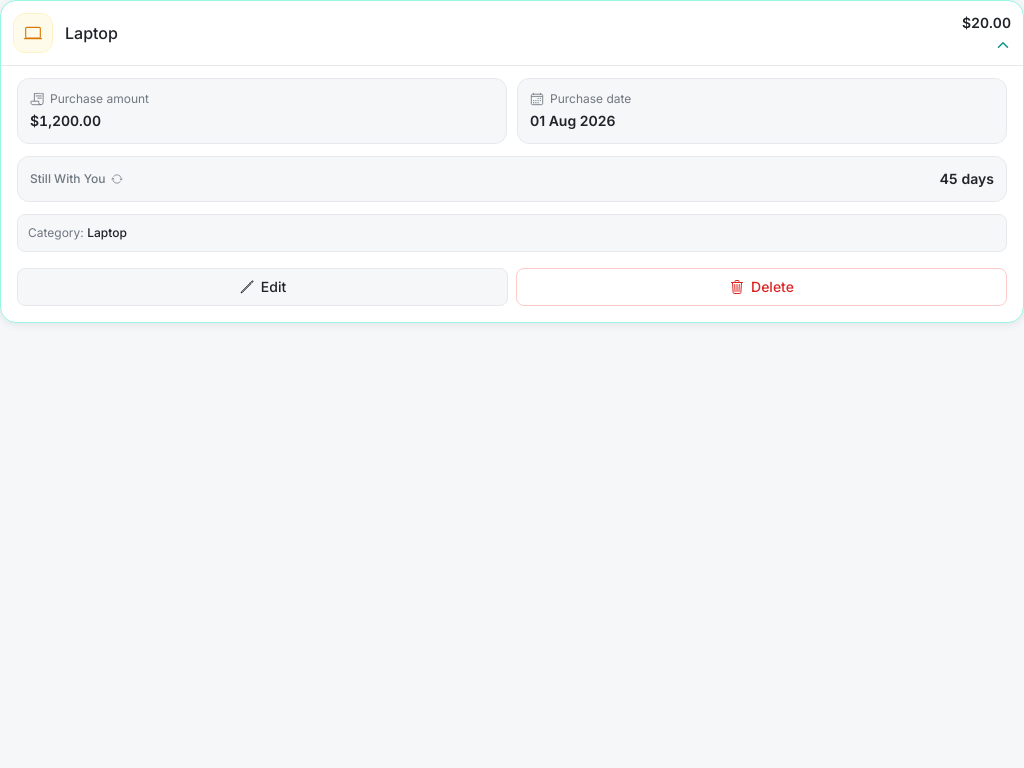
Test: ItemCard › keeps duration cycling local to the item presentation boundary
This screenshot has width=1024, height=768.
Click the button with aria-label "Still With You: 45 days" at {"x": 68, "y": 178}, box top-left (17, 156), bottom-right (1007, 202)
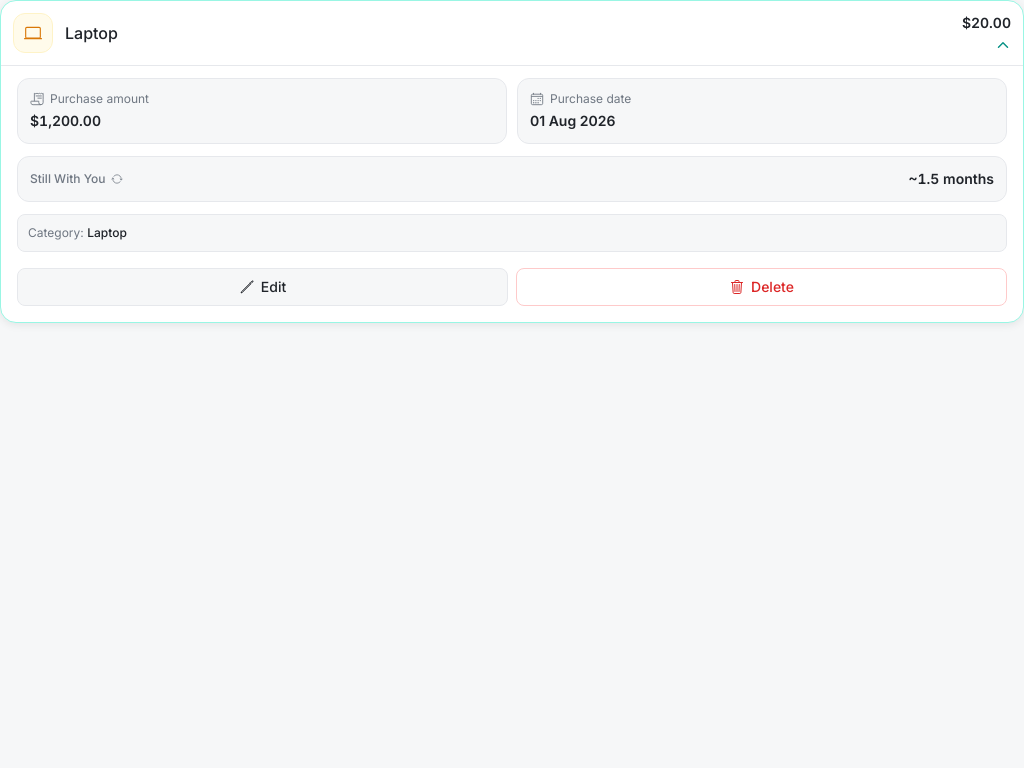
Expected: the button with aria-label "Still With You: ~1.5 months" is shown, top-left (17, 156), bottom-right (1007, 202)
